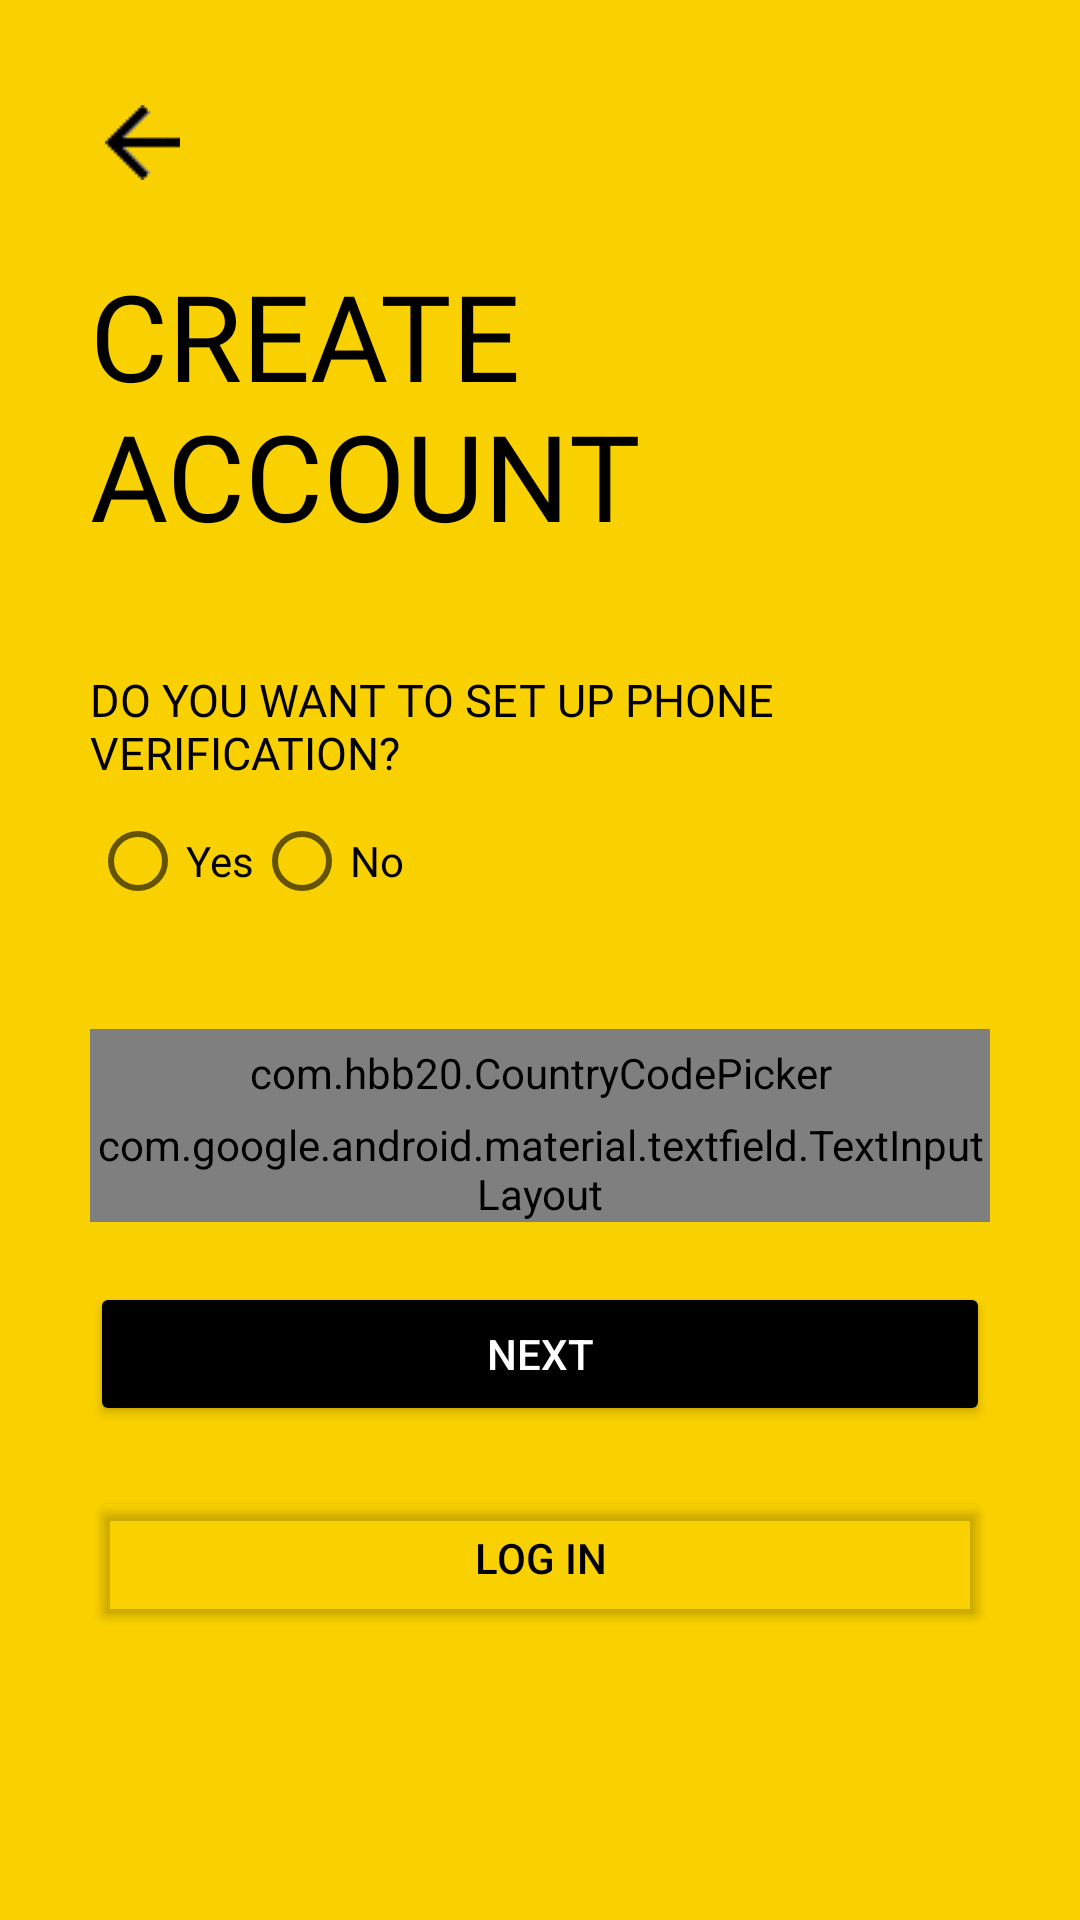

Screen size 1080 × 1920. Icon name, then its box in pixels as detection(x1, y1, x2, y2):
general back: detection(105, 105, 180, 180)
